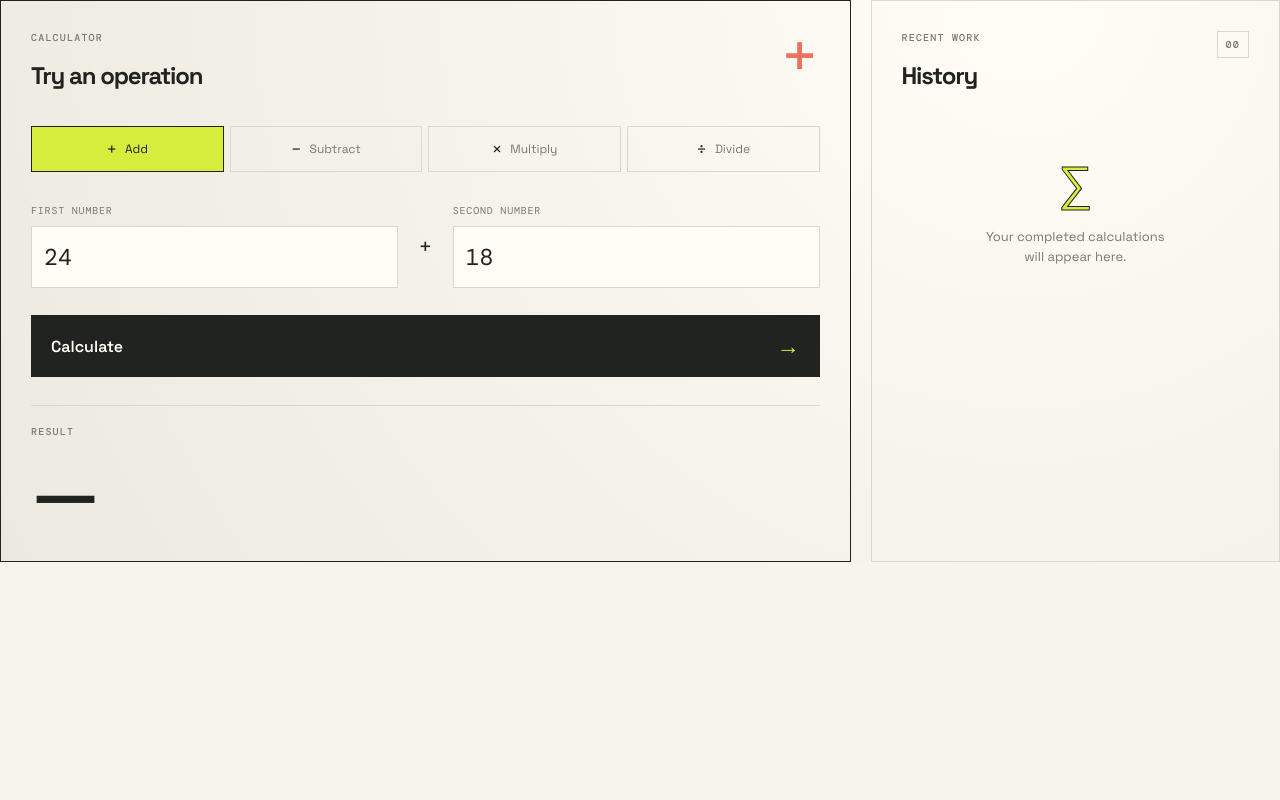
Test case: Calculator › calculates subtraction successfully
This screenshot has width=1280, height=800.
Step 1. Click the tab "− Subtract" → point(326, 149), box [230,126,422,172]
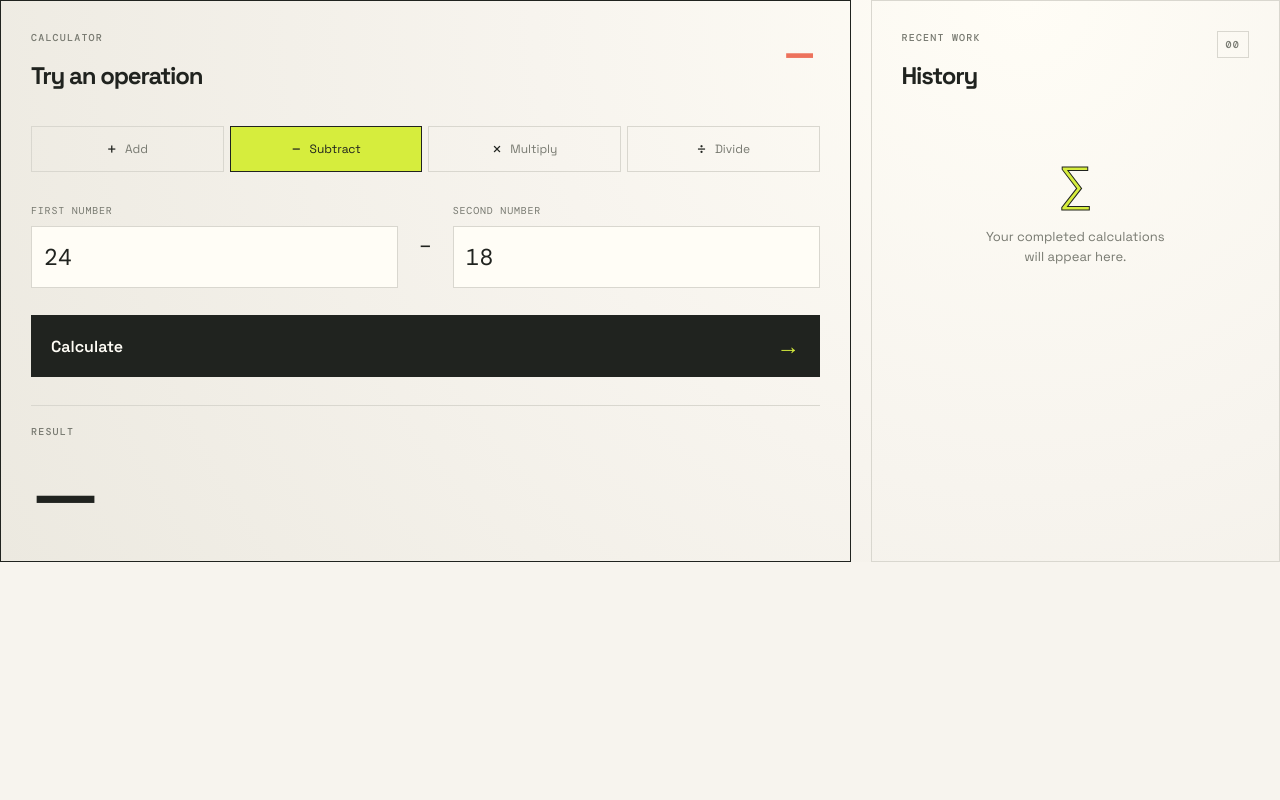
Step 2. Replace the text in the field labelled "First number" with "8" → point(214, 257), box [31,226,398,288]
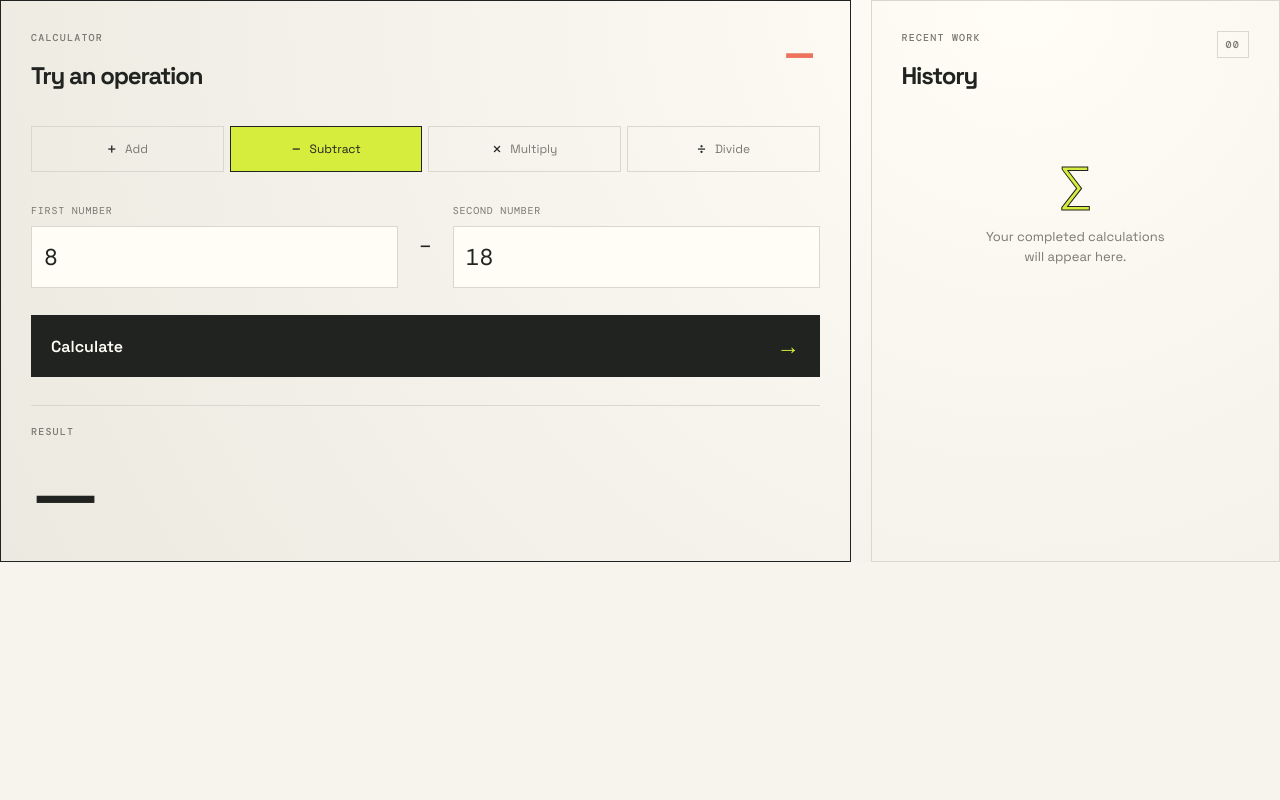
Step 3. Replace the text in the field labelled "Second number" with "3" → point(636, 257), box [453,226,820,288]
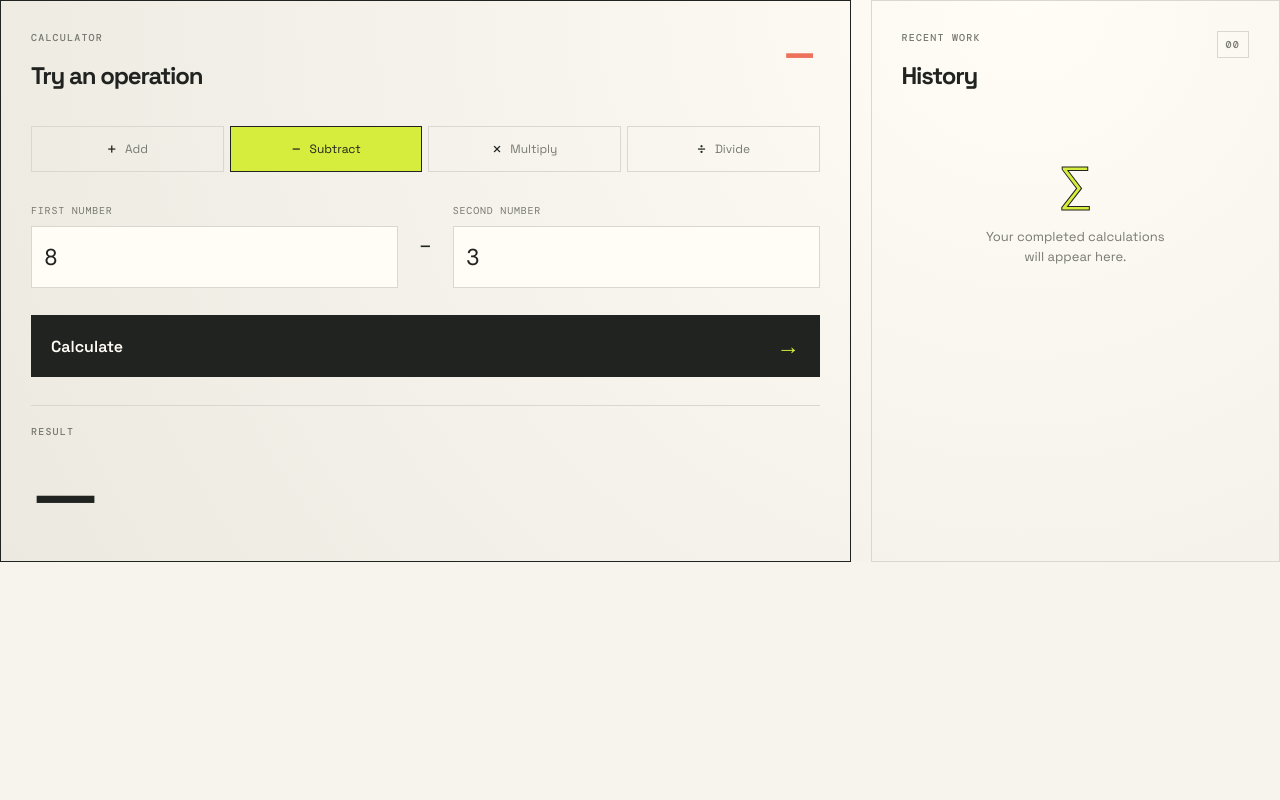
Step 4. Click the button "Calculate →" → point(87, 346), box [31,315,820,377]
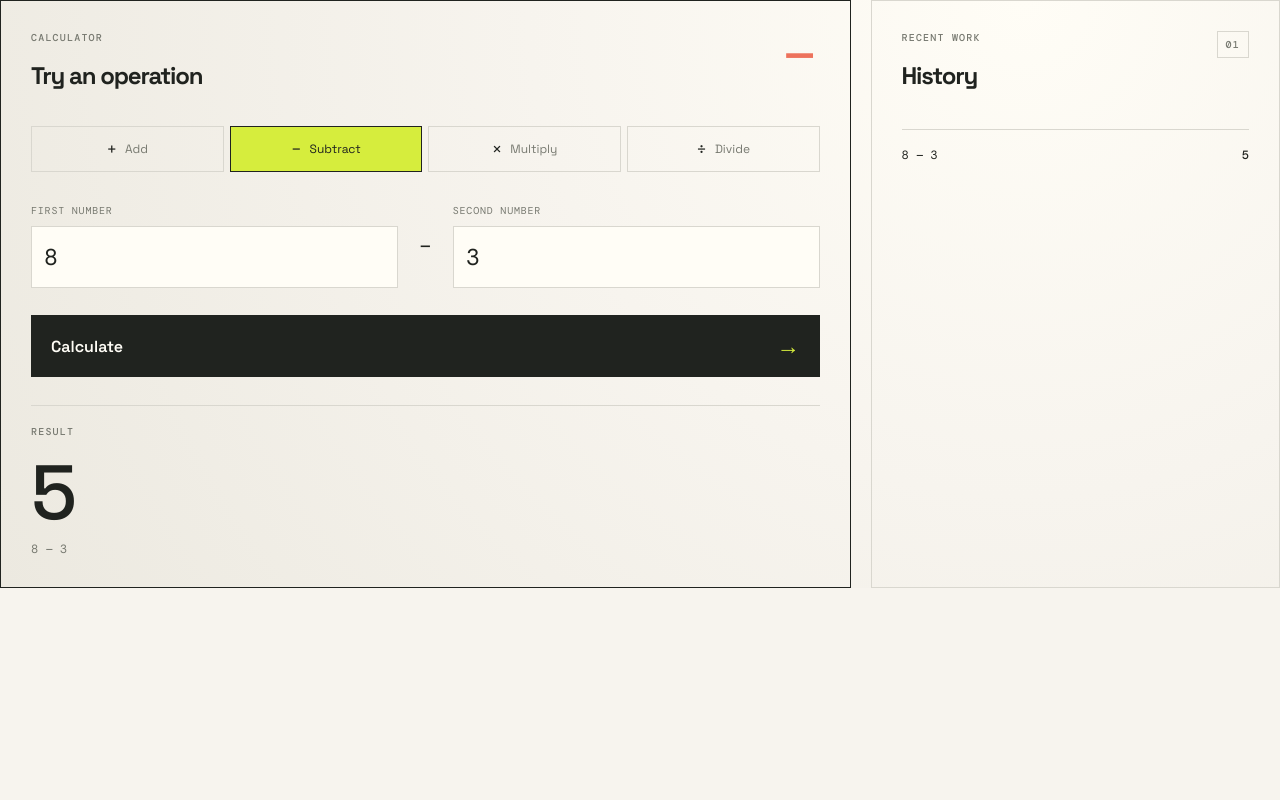
Expected: the text "5" below "Result" is shown, [31,443,71,541]
